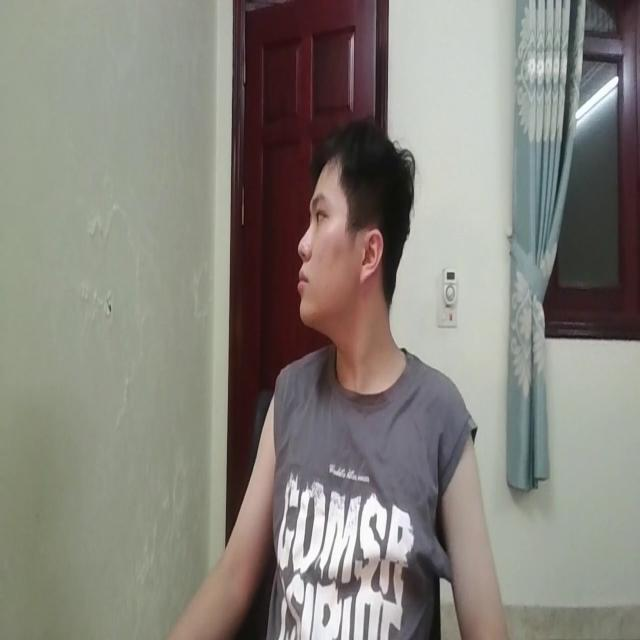student: (181, 122, 511, 640)
